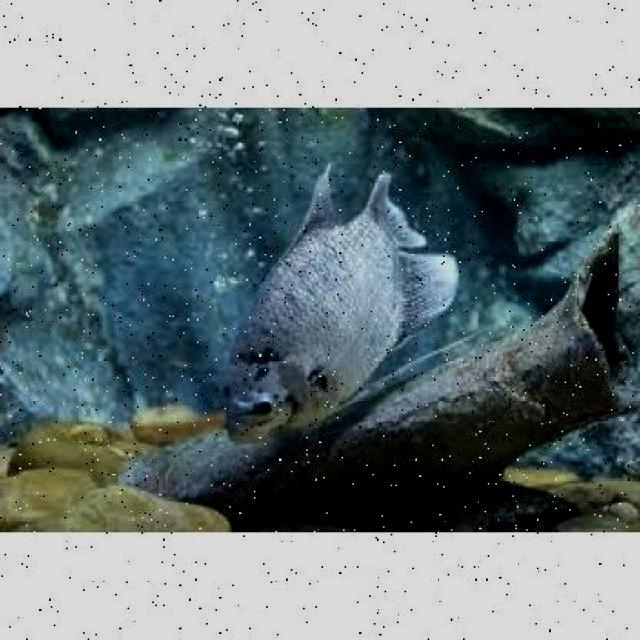gurame: (216, 176, 455, 442)
